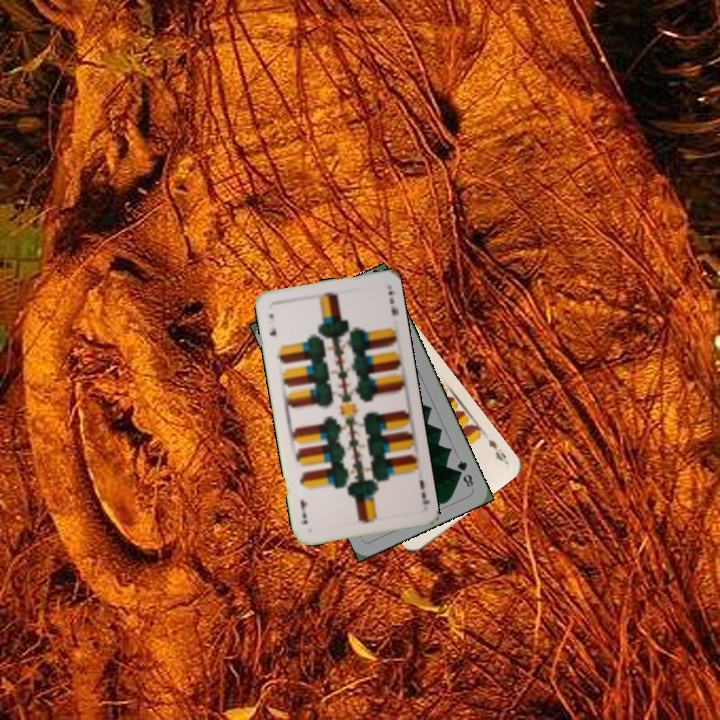E7: (415, 476, 433, 507), (265, 310, 279, 339)
E9: (484, 435, 510, 465)
G8: (453, 455, 476, 490)
